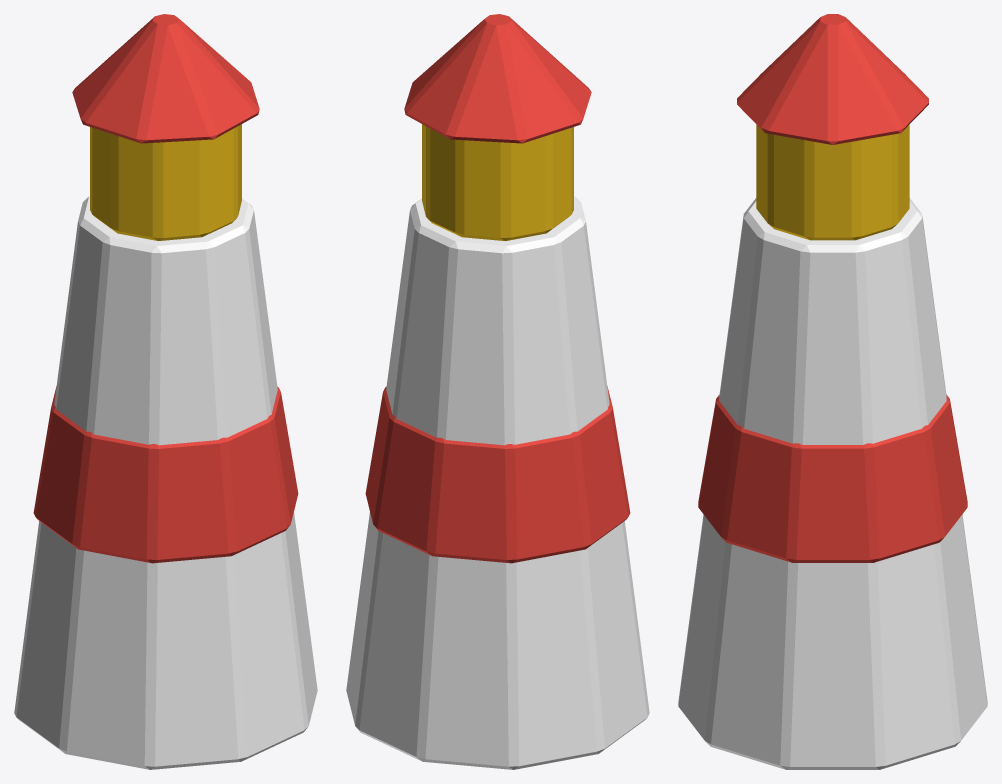
File: lighthouse.glb
3 views of the same model, side by side, from view 1: azimuth 30°, elevation 25°; view 2: azimuth 150°, elevation 25°; view 3: azimuth 270°, elevation 25° (orthographic).
Parts seen in each view (by area): view 1: lighthouse; view 2: lighthouse; view 3: lighthouse.
Boxes of the visible parts, x1,y1,x2,y2 form: lighthouse: (14,14,317,769); lighthouse: (346,14,649,769); lighthouse: (678,14,987,769).
Size of the model in its own units: 0.3788 by 0.9696 by 0.394.
